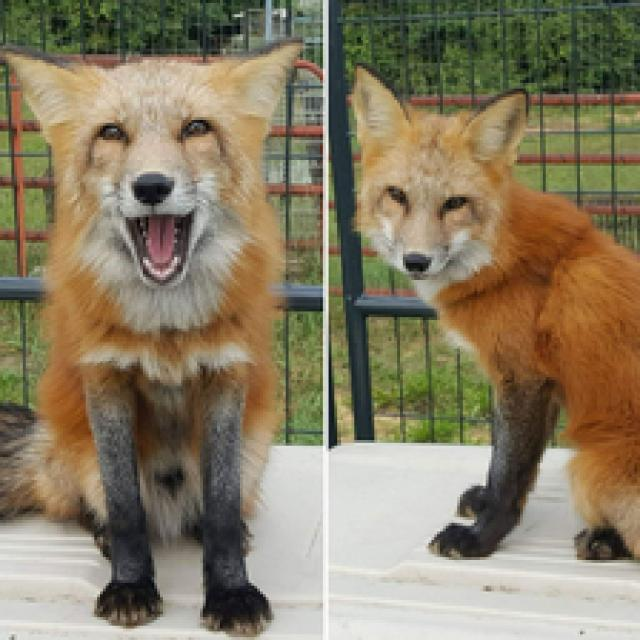fox: (5, 27, 337, 640), (343, 52, 640, 577)
